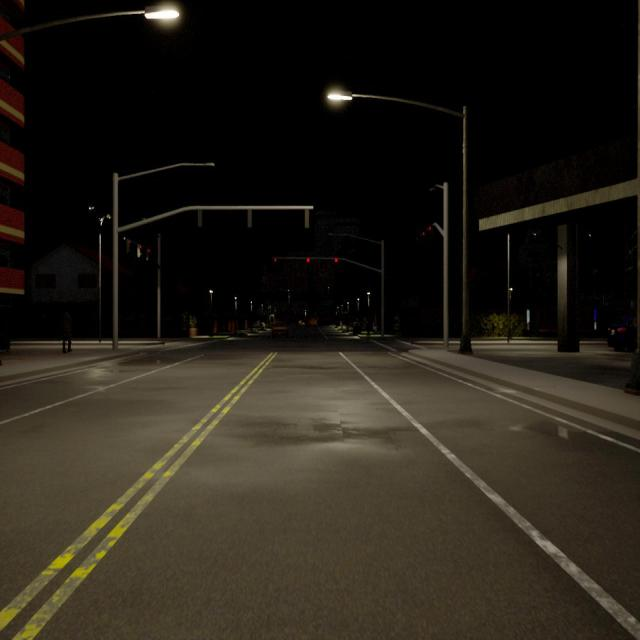Pedestrian: (62, 310, 72, 354)
Vehicle: (608, 326, 638, 352), (272, 322, 287, 339)
traffic_light: (305, 210, 309, 228), (248, 210, 252, 227), (198, 210, 202, 226), (138, 244, 142, 257), (127, 240, 130, 253), (147, 249, 150, 259), (306, 258, 310, 262), (334, 258, 338, 262), (274, 258, 277, 262), (429, 226, 431, 230), (422, 232, 424, 235)
